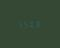five: (24, 20, 29, 28)
one: (18, 20, 23, 28)
three: (36, 19, 41, 27)
zero: (30, 19, 35, 27)
